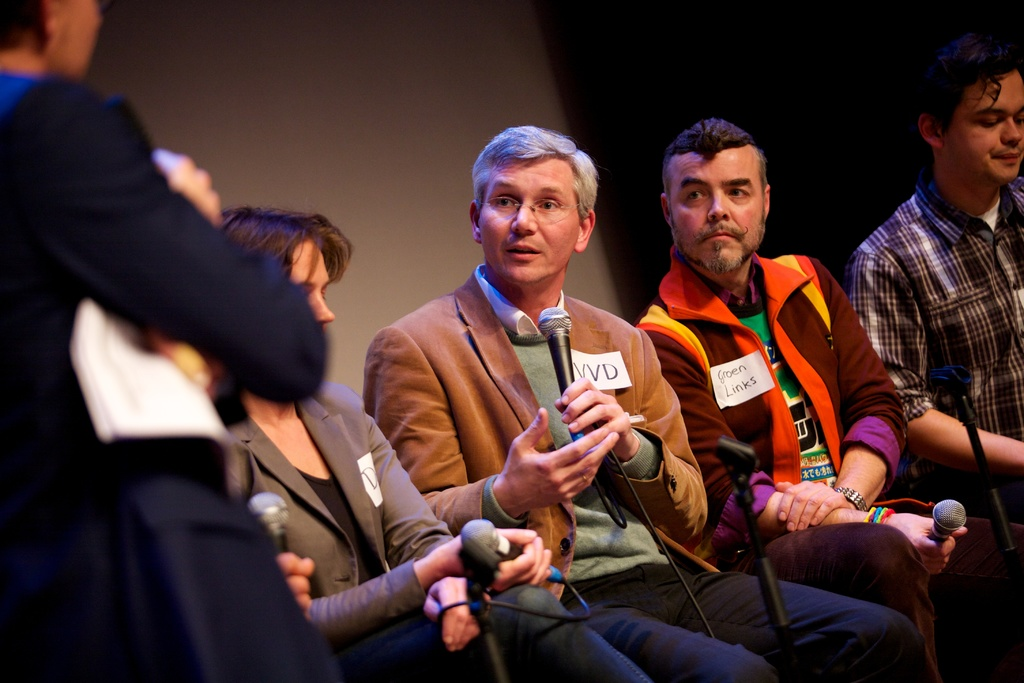Human_hand: (502, 391, 633, 529), (444, 525, 555, 598), (552, 375, 636, 462), (150, 147, 224, 233), (886, 513, 969, 579), (422, 574, 481, 657), (776, 478, 851, 533), (276, 550, 317, 624)
